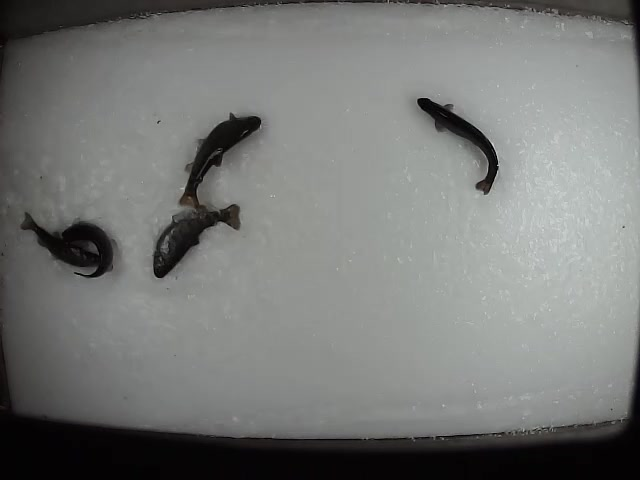fish: (175, 111, 263, 211), (415, 96, 499, 197), (152, 200, 242, 277), (16, 208, 116, 275), (57, 219, 115, 277)
